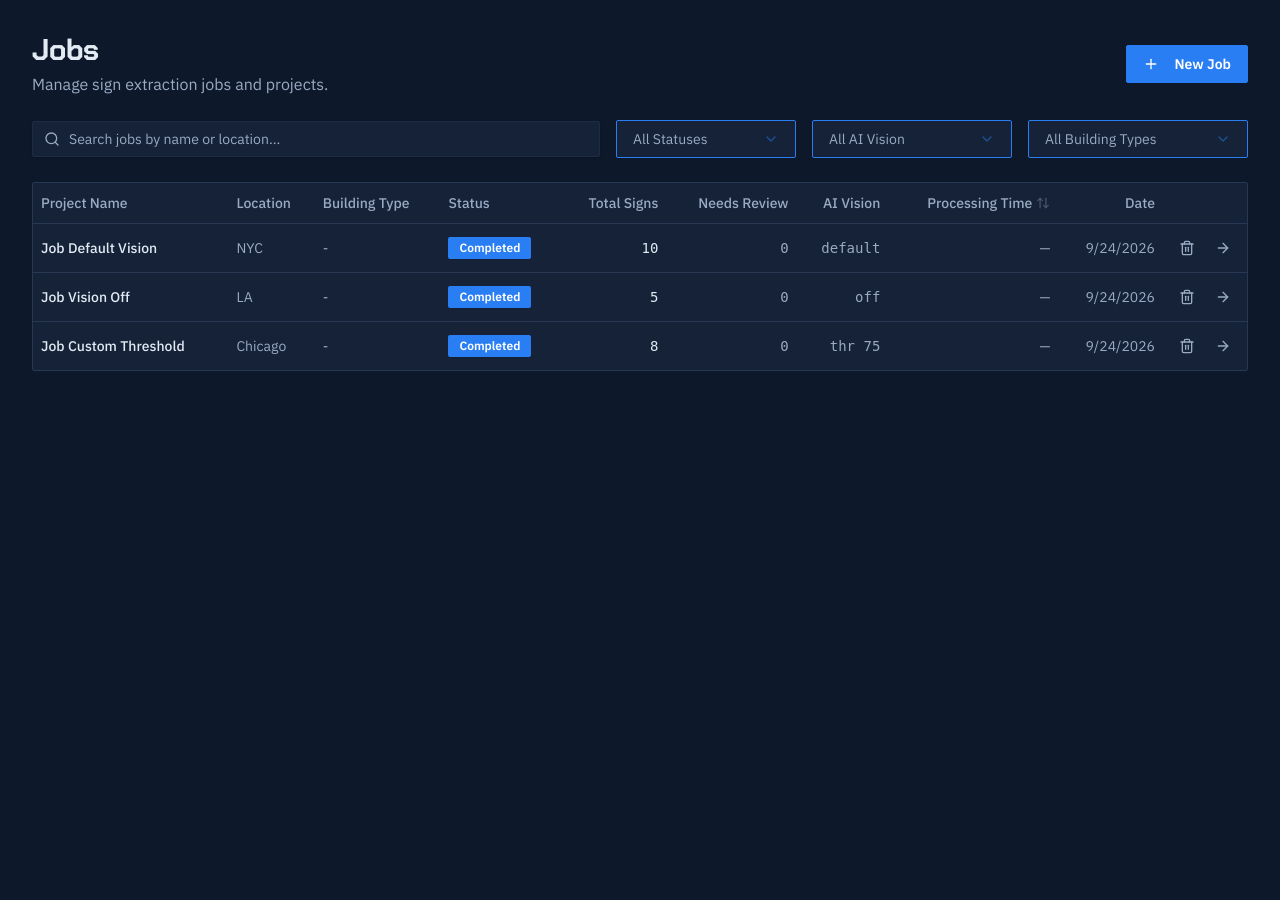
AI Vision filter — Jobs page component › popover content › opens the popover and shows all three options
Click the dropdown with test id "btn-vision-filter".
click(912, 139)  # box top-left (812, 120), bottom-right (1012, 158)
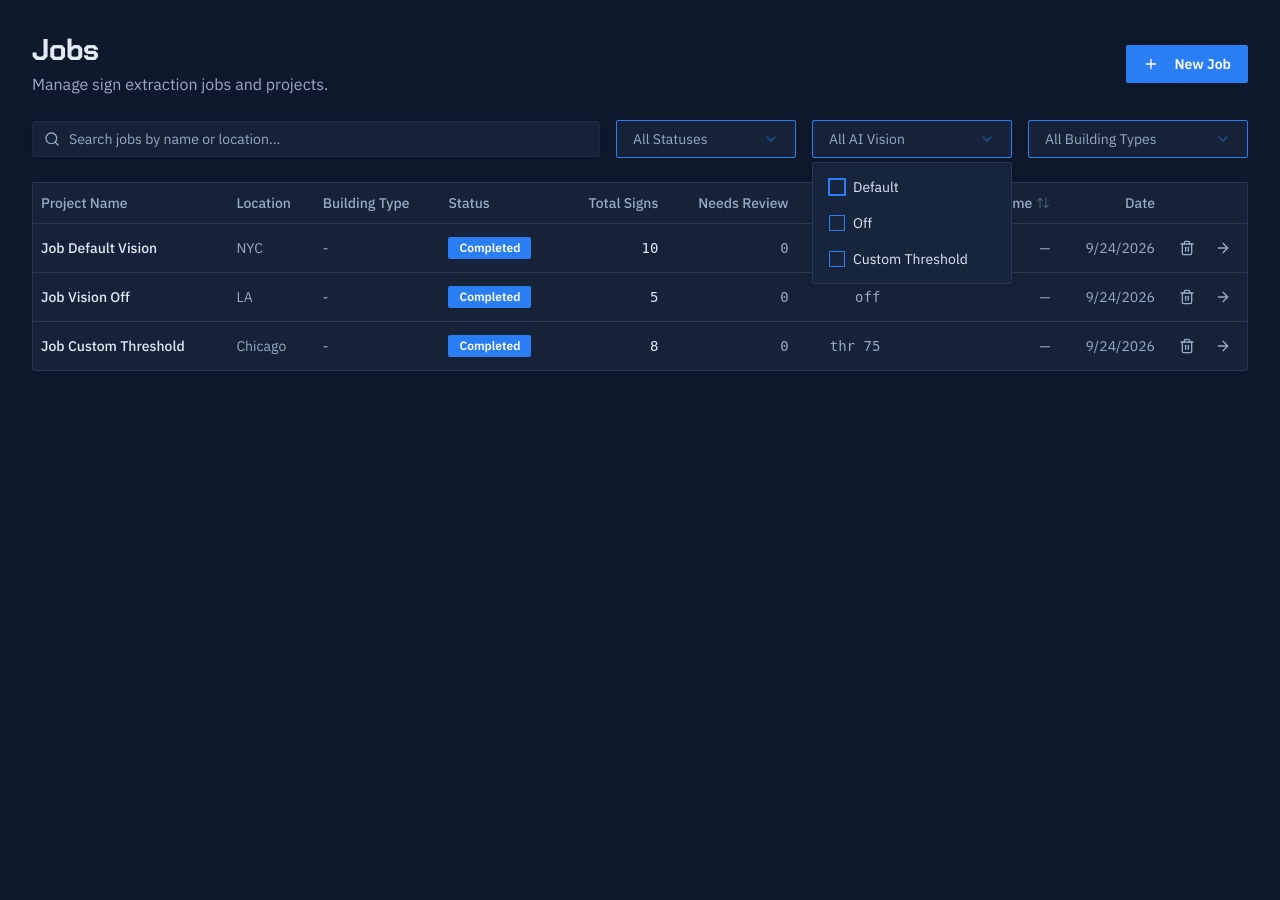
Expected: the text "Default" is shown, top-left (829, 178), bottom-right (899, 196)
Expected: the text "Off" is shown, top-left (829, 214), bottom-right (872, 232)
Expected: the text "Custom Threshold" is shown, top-left (829, 250), bottom-right (968, 268)
